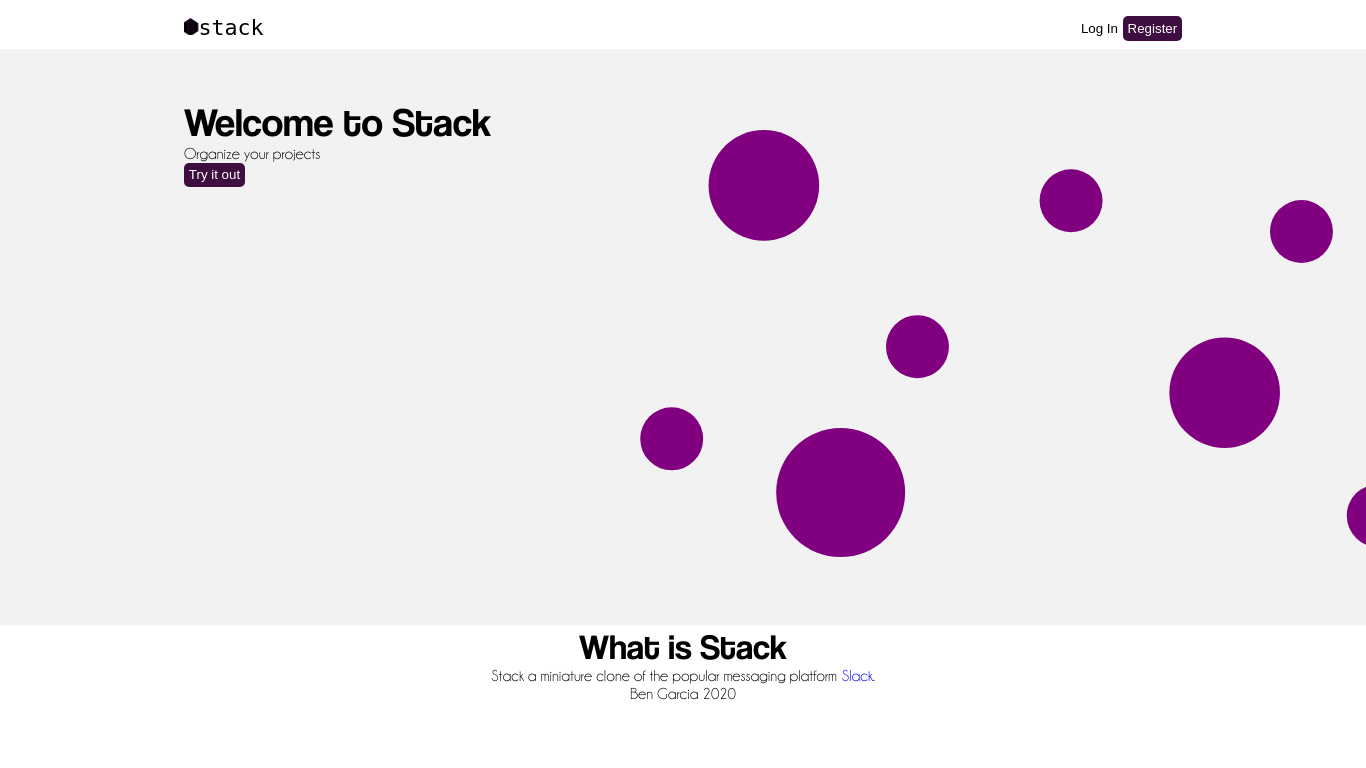
Register › error messages › email › should show "required" message
The image size is (1366, 768).
Click the button "Register": (1153, 29) 1123,16 -> 1182,41
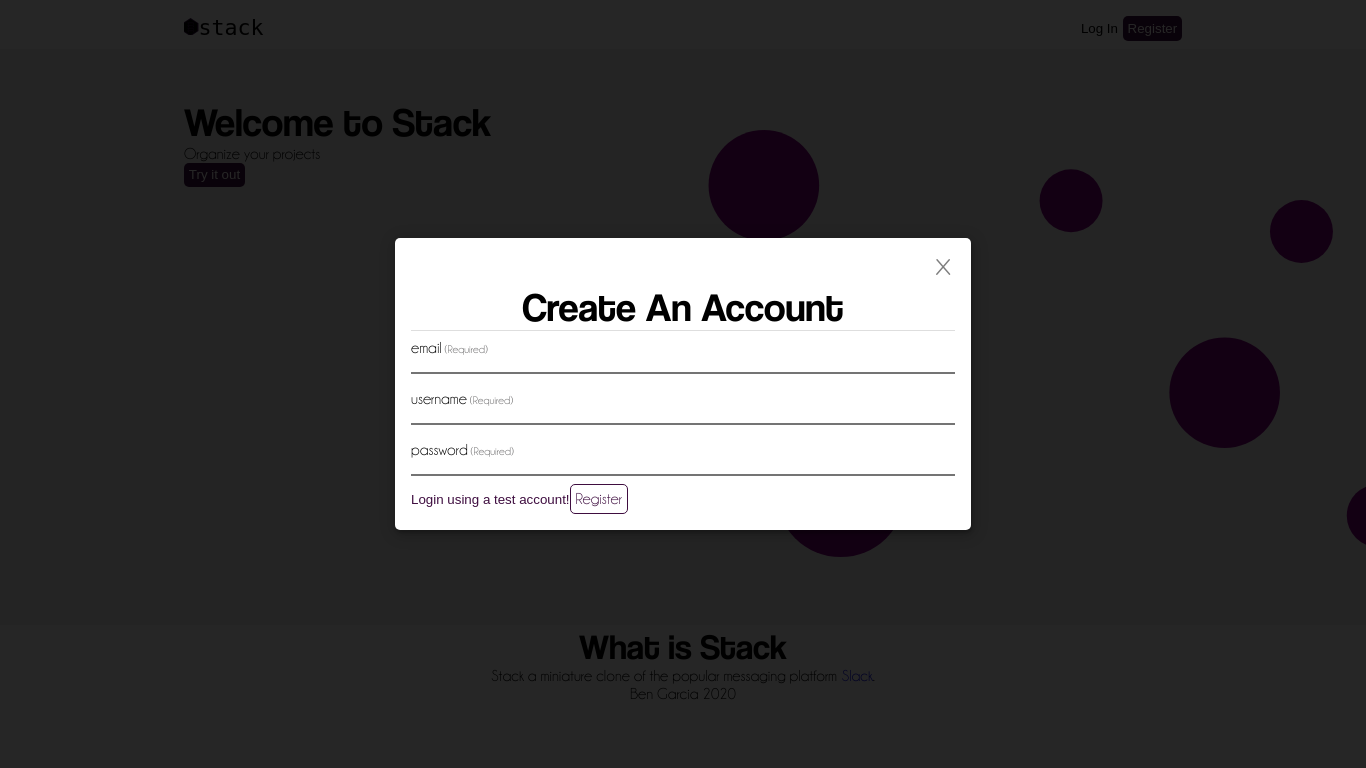
Focus the field named "email": (683, 366) 411,357 -> 955,374
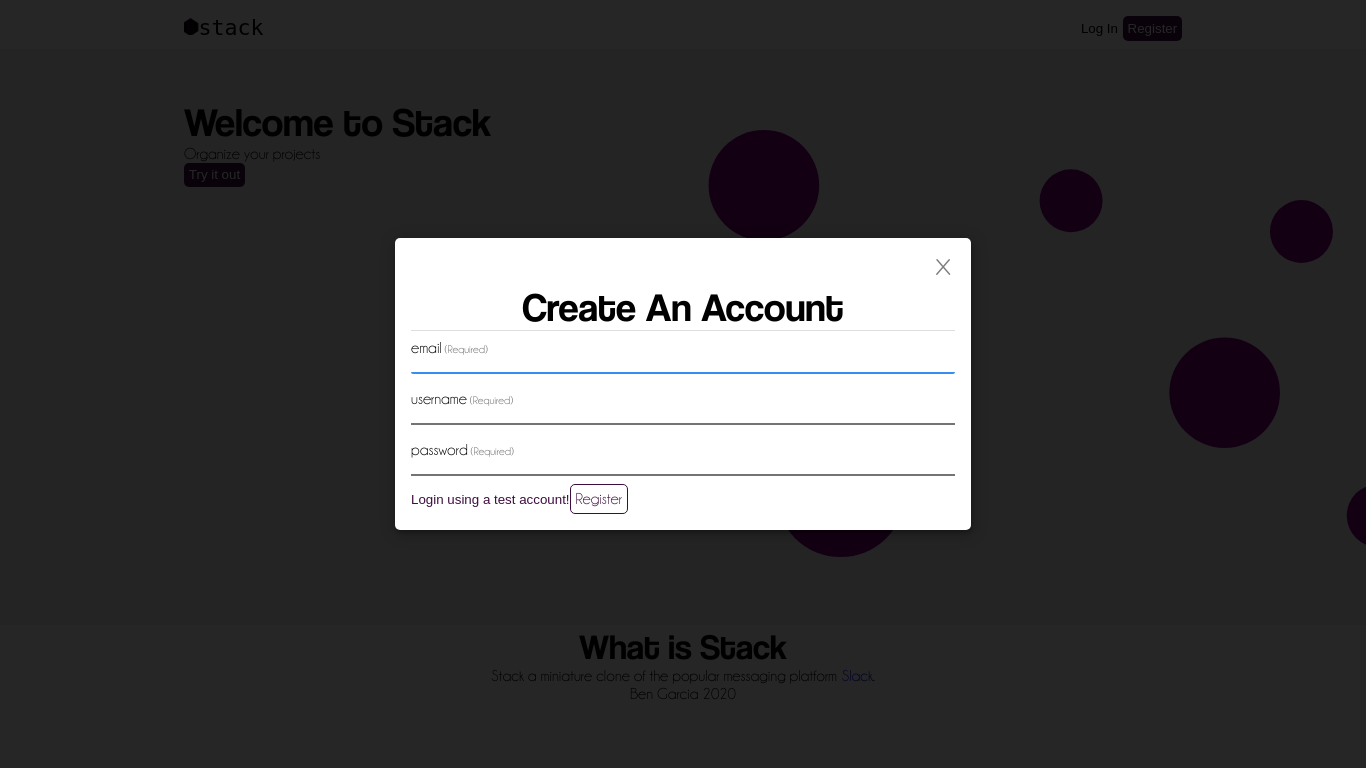
Leave the field named "email", box 411,357 -> 955,374
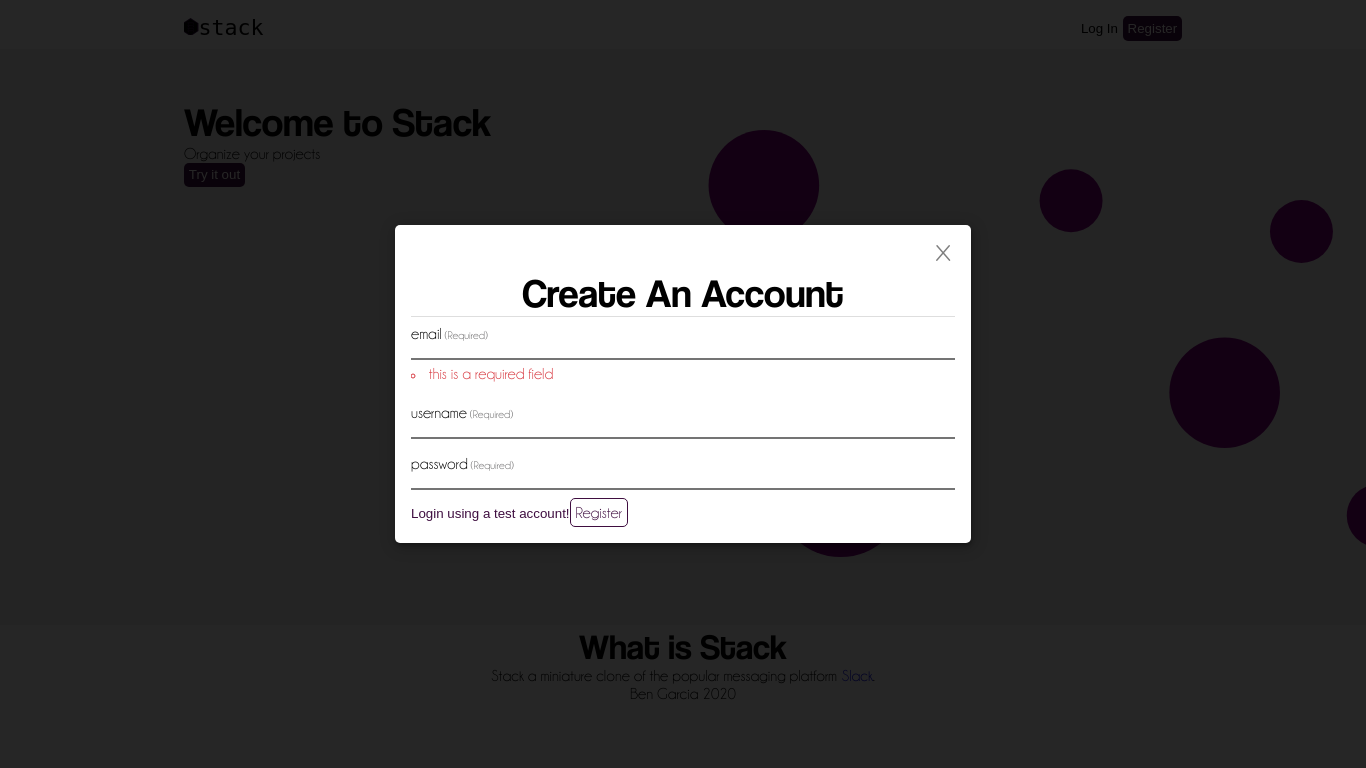
Check: the text "this is a required field" is shown, box 429,366 -> 553,382
